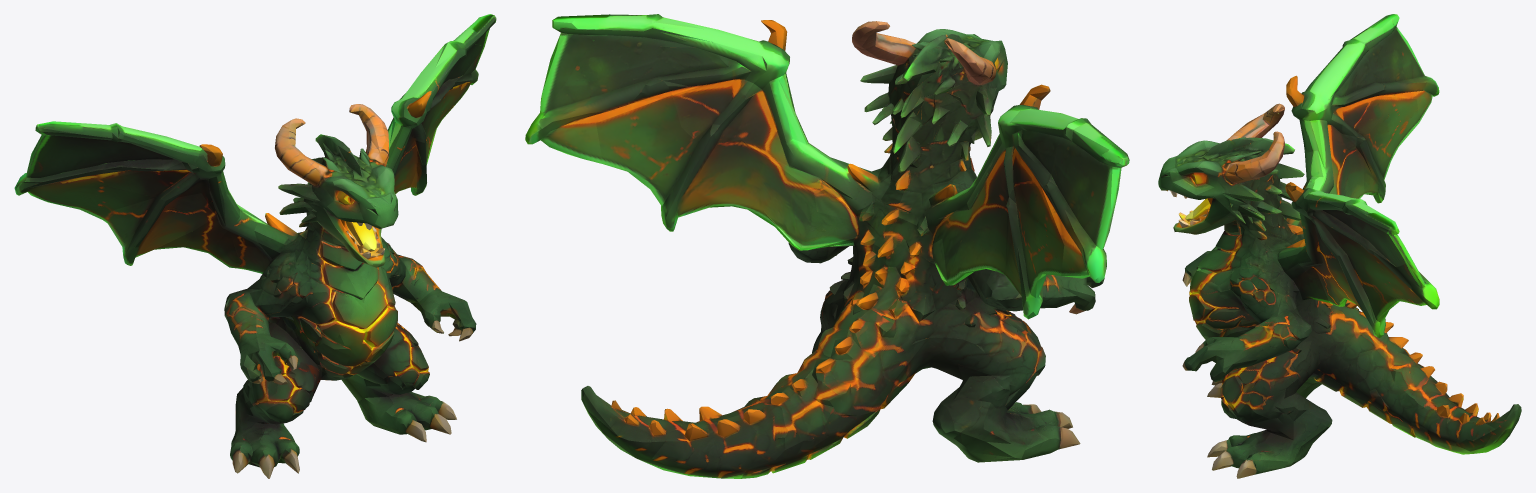
Rendered from dragon.glb.
3 views of the same model, side by side, from view 1: azimuth 30°, elevation 25°; view 2: azimuth 150°, elevation 25°; view 3: azimuth 270°, elevation 25° (orthographic). The views are drawn at different scales.
Size of the model in its own units: 1.9 by 1.26 by 1.34.
1 material, 1 textured.
